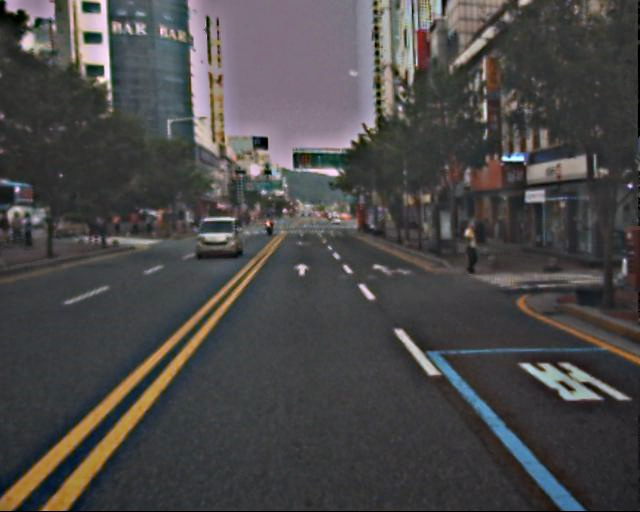person: (460, 221, 484, 280)
